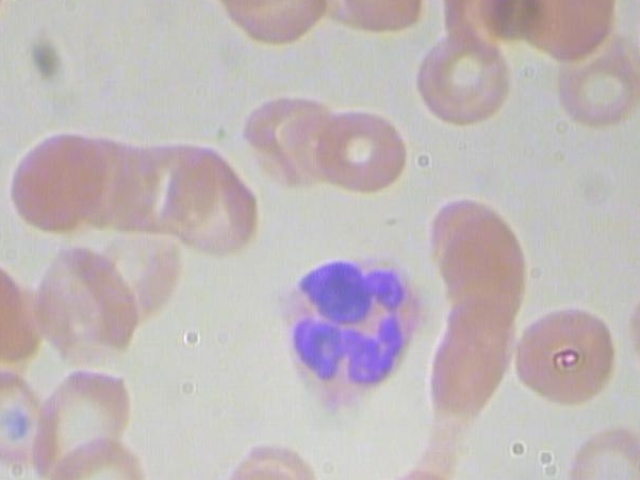RBC: (29, 242, 143, 368), (510, 299, 621, 412), (169, 141, 266, 267), (3, 127, 114, 236), (410, 28, 521, 136), (437, 209, 529, 326), (240, 85, 339, 193), (424, 299, 516, 415), (318, 103, 408, 200), (551, 39, 640, 133), (43, 424, 150, 480), (0, 366, 54, 464), (213, 456, 324, 480), (362, 464, 470, 480)
WBC: (265, 246, 433, 415)
